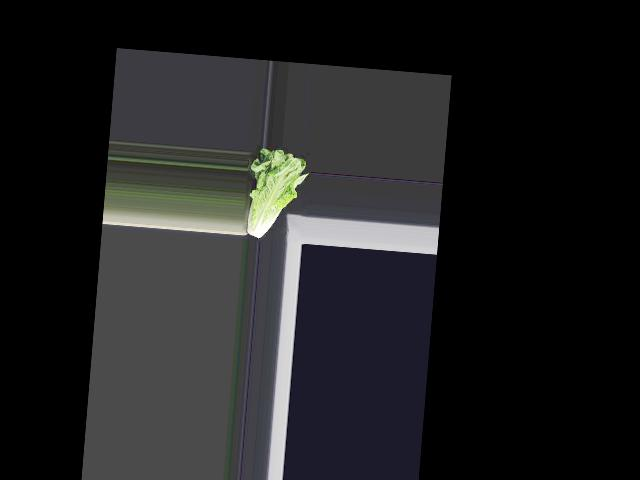lettuce: (244, 145, 309, 242)
